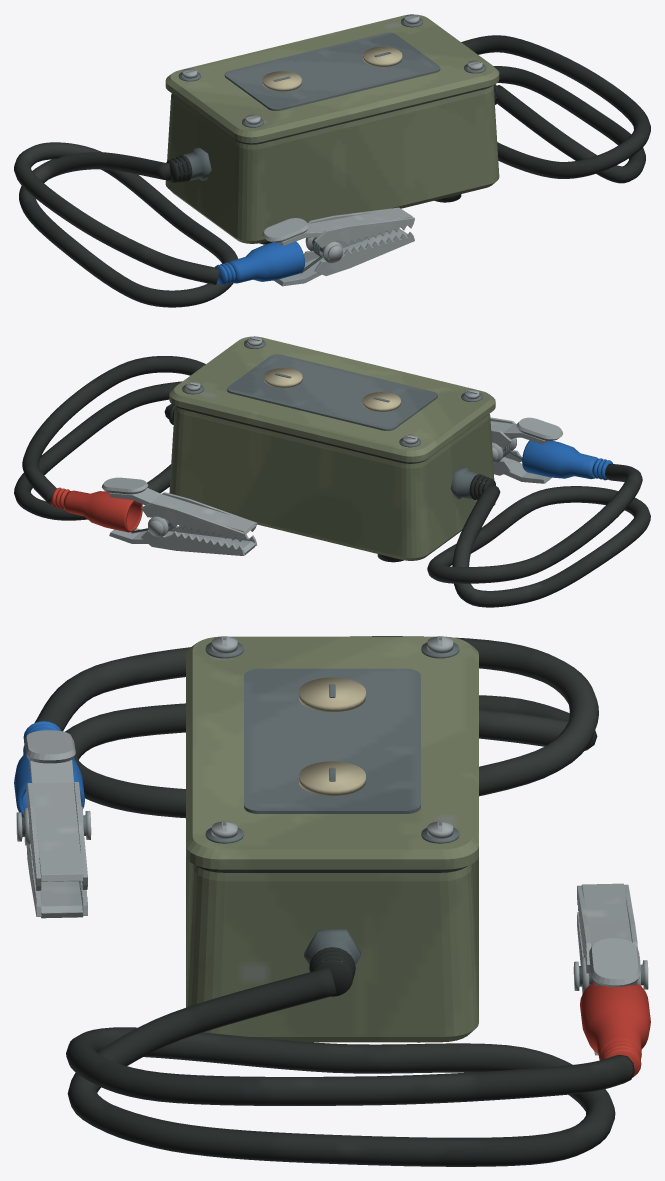
File: Bypass_Stored_Static.fbx
3 renders of one model, top to bottom at view 1: azimuth 30°, elevation 25°; view 2: azimuth 150°, elevation 25°; view 3: azimuth 270°, elevation 25°, orthographic. The views are drawn at different scales.
Parts seen in each view (by area): view 1: BY410S__M45_BY__A_DiecastBase, BY410S__M45_BY__A_SeparateCover, BY410S__M45_BY__A_Cable_01_Stored, BY410S__M45_BY__A_Cable_02_Stored, BY410S__M45_BY__A_RecessedServicePanel, BY410S__M45_BY__A_Clip_01_MovingJaw_SheetSteel, BY410S__M45_BY__A_Clip_01_FixedJaw_SheetSteel, BY410S__M45_BY__A_Clip_01_InsulatingBoot, BY410S__M45_BY__A_Clip_01_PressurePaddle, BY410S__M45_BY__A_PorcelainCircuitMarker_-0.115, BY410S__M45_BY__A_PorcelainCircuitMarker_0.115, BY410S__M45_BY__A_LapJointGasket (+1 smaller); view 2: BY410S__M45_BY__A_DiecastBase, BY410S__M45_BY__A_SeparateCover, BY410S__M45_BY__A_Cable_01_Stored, BY410S__M45_BY__A_Cable_02_Stored, BY410S__M45_BY__A_RecessedServicePanel, BY410S__M45_BY__A_Clip_02_MovingJaw_SheetSteel, BY410S__M45_BY__A_Clip_02_FixedJaw_SheetSteel, BY410S__M45_BY__A_Clip_02_InsulatingBoot, BY410S__M45_BY__A_Clip_01_InsulatingBoot, BY410S__M45_BY__A_Clip_01_FixedJaw_SheetSteel, BY410S__M45_BY__A_Clip_01_MovingJaw_SheetSteel, BY410S__M45_BY__A_Clip_01_PressurePaddle (+5 smaller); view 3: BY410S__M45_BY__A_Cable_02_Stored, BY410S__M45_BY__A_DiecastBase, BY410S__M45_BY__A_SeparateCover, BY410S__M45_BY__A_Cable_01_Stored, BY410S__M45_BY__A_RecessedServicePanel, BY410S__M45_BY__A_Clip_01_MovingJaw_SheetSteel, BY410S__M45_BY__A_Clip_02_InsulatingBoot, BY410S__M45_BY__A_Clip_02_MovingJaw_SheetSteel, BY410S__M45_BY__A_Clip_01_FixedJaw_SheetSteel, BY410S__M45_BY__A_Clip_02_PressurePaddle, BY410S__M45_BY__A_PorcelainCircuitMarker_0.115, BY410S__M45_BY__A_PorcelainCircuitMarker_-0.115 (+4 smaller).
Part boxes in pixels (x1=…): BY410S__M45_BY__A_DiecastBase: x1=165, y1=85, x2=499, y2=243; BY410S__M45_BY__A_SeparateCover: x1=165, y1=14, x2=499, y2=143; BY410S__M45_BY__A_Cable_01_Stored: x1=14, y1=142, x2=237, y2=307; BY410S__M45_BY__A_Cable_02_Stored: x1=461, y1=35, x2=650, y2=183; BY410S__M45_BY__A_RecessedServicePanel: x1=224, y1=32, x2=440, y2=110; BY410S__M45_BY__A_Clip_01_MovingJaw_SheetSteel: x1=279, y1=207, x2=414, y2=247; BY410S__M45_BY__A_Clip_01_FixedJaw_SheetSteel: x1=273, y1=228, x2=414, y2=286; BY410S__M45_BY__A_Clip_01_InsulatingBoot: x1=228, y1=241, x2=304, y2=283; BY410S__M45_BY__A_Clip_01_PressurePaddle: x1=262, y1=218, x2=308, y2=242; BY410S__M45_BY__A_PorcelainCircuitMarker_-0.115: x1=262, y1=71, x2=301, y2=91; BY410S__M45_BY__A_PorcelainCircuitMarker_0.115: x1=363, y1=46, x2=402, y2=66; BY410S__M45_BY__A_LapJointGasket: x1=174, y1=85, x2=492, y2=144; BY410S__M45_BY__A_DiecastBase: x1=169, y1=405, x2=495, y2=560; BY410S__M45_BY__A_SeparateCover: x1=169, y1=336, x2=495, y2=462; BY410S__M45_BY__A_Cable_01_Stored: x1=427, y1=463, x2=650, y2=607; BY410S__M45_BY__A_Cable_02_Stored: x1=14, y1=356, x2=205, y2=520; BY410S__M45_BY__A_RecessedServicePanel: x1=227, y1=354, x2=437, y2=430; BY410S__M45_BY__A_Clip_02_MovingJaw_SheetSteel: x1=109, y1=488, x2=257, y2=541; BY410S__M45_BY__A_Clip_02_FixedJaw_SheetSteel: x1=109, y1=516, x2=257, y2=555; BY410S__M45_BY__A_Clip_02_InsulatingBoot: x1=63, y1=490, x2=142, y2=532; BY410S__M45_BY__A_Clip_01_InsulatingBoot: x1=522, y1=440, x2=598, y2=479; BY410S__M45_BY__A_Clip_01_FixedJaw_SheetSteel: x1=492, y1=437, x2=551, y2=483; BY410S__M45_BY__A_Clip_01_MovingJaw_SheetSteel: x1=490, y1=417, x2=547, y2=447; BY410S__M45_BY__A_Clip_01_PressurePaddle: x1=516, y1=417, x2=562, y2=440; BY410S__M45_BY__A_Cable_02_Stored: x1=66, y1=967, x2=634, y2=1166; BY410S__M45_BY__A_DiecastBase: x1=186, y1=856, x2=478, y2=1042; BY410S__M45_BY__A_SeparateCover: x1=186, y1=636, x2=478, y2=869; BY410S__M45_BY__A_Cable_01_Stored: x1=34, y1=636, x2=598, y2=818; BY410S__M45_BY__A_RecessedServicePanel: x1=244, y1=668, x2=420, y2=813; BY410S__M45_BY__A_Clip_01_MovingJaw_SheetSteel: x1=26, y1=759, x2=87, y2=890; BY410S__M45_BY__A_Clip_02_InsulatingBoot: x1=580, y1=982, x2=650, y2=1060; BY410S__M45_BY__A_Clip_02_MovingJaw_SheetSteel: x1=577, y1=883, x2=637, y2=986; BY410S__M45_BY__A_Clip_01_FixedJaw_SheetSteel: x1=24, y1=807, x2=87, y2=918; BY410S__M45_BY__A_Clip_02_PressurePaddle: x1=589, y1=938, x2=640, y2=987; BY410S__M45_BY__A_PorcelainCircuitMarker_0.115: x1=299, y1=761, x2=365, y2=795; BY410S__M45_BY__A_PorcelainCircuitMarker_-0.115: x1=299, y1=677, x2=365, y2=711.
Bounding box in the file's own units: 124 × 28.9 × 73.84.
6 materials, 6 textured.
